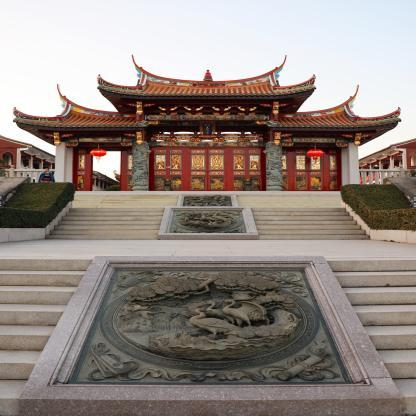Building Outline: (12, 54, 401, 191)
Dont: (306, 143, 324, 163), (90, 142, 106, 163)
Door: (189, 148, 226, 191), (90, 151, 121, 191), (294, 151, 324, 191)
Facade: (56, 112, 359, 191)
Ground Floor: (56, 127, 359, 192)
Pillar: (262, 141, 284, 191), (131, 141, 152, 191)
Roof: (97, 81, 316, 97), (12, 110, 150, 128), (266, 111, 401, 128)
